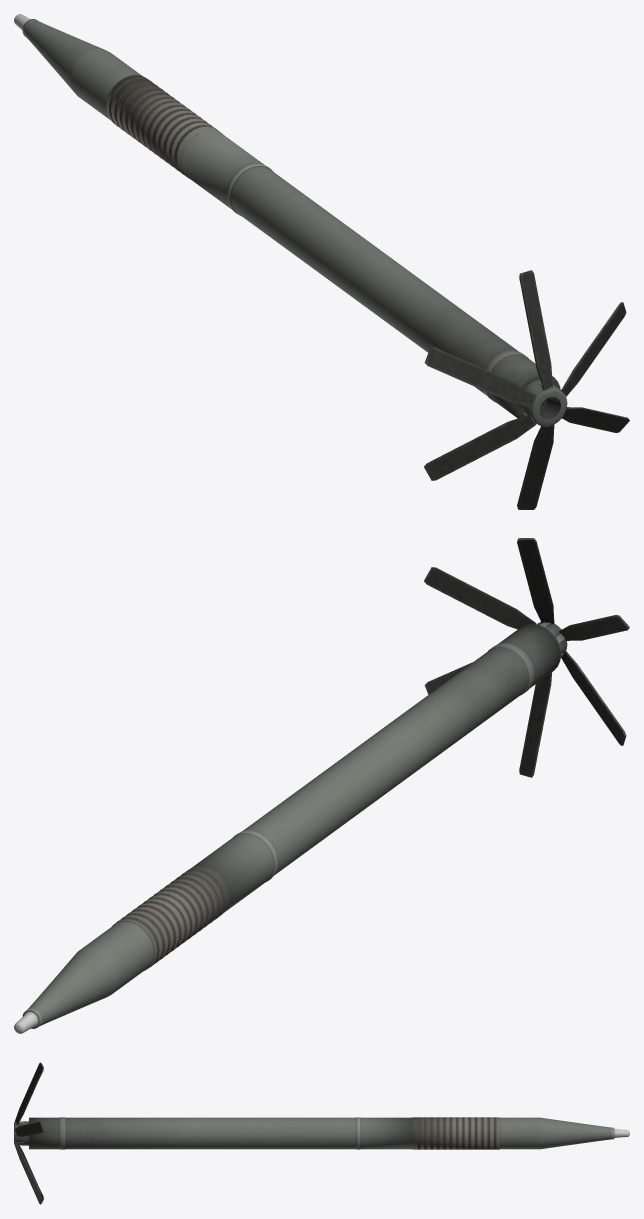
File: w_nar_s8.glb
3 views of the same model, one above another, from view 1: azimuth 30°, elevation 25°; view 2: azimuth 150°, elevation 25°; view 3: azimuth 270°, elevation 25° (orthographic). The views are drawn at different scales.
Parts seen in each view (by area): view 1: body|S8_body, body|S8_blade, body|S8_frag, body|S8_ring; view 2: body|S8_body, body|S8_blade, body|S8_frag, body|S8_ring; view 3: body|S8_body, body|S8_frag, body|S8_blade, body|S8_ring.
Boxes of the visible parts, <box> form: body|S8_body: <box>24,20,560,418</box>; body|S8_blade: <box>424,270,629,509</box>; body|S8_frag: <box>109,77,217,174</box>; body|S8_ring: <box>22,19,567,426</box>; body|S8_body: <box>27,623,560,1025</box>; body|S8_blade: <box>424,538,629,777</box>; body|S8_frag: <box>116,869,224,966</box>; body|S8_ring: <box>22,622,567,1028</box>; body|S8_body: <box>29,1117,611,1149</box>; body|S8_frag: <box>418,1117,496,1149</box>; body|S8_blade: <box>15,1062,43,1204</box>; body|S8_ring: <box>14,1117,614,1149</box>.
Size of the model in its own units: 0.3458 by 0.3867 by 1.56.
Materials: 6 (6 with a texture image).
